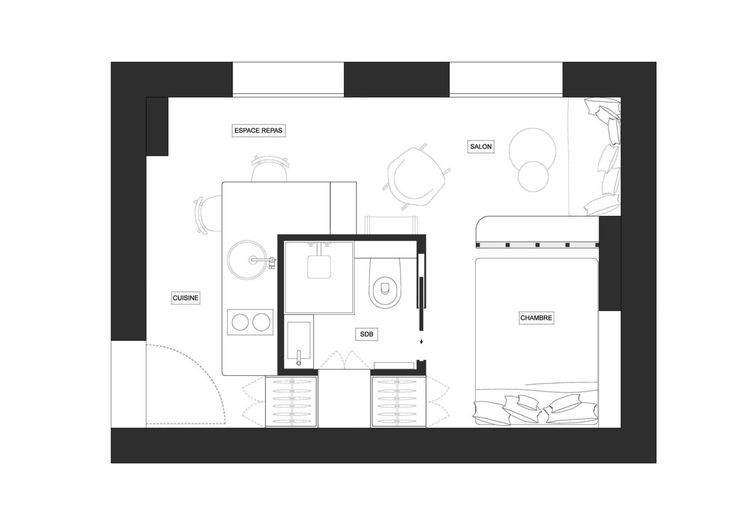door: (146, 339, 231, 431), (425, 372, 458, 429), (235, 374, 269, 428), (314, 346, 373, 369)
room: (167, 97, 446, 237), (449, 90, 620, 257), (146, 223, 278, 427), (473, 259, 620, 425), (282, 236, 424, 375)
wall: (107, 422, 670, 472), (622, 49, 666, 465), (104, 52, 153, 341), (104, 51, 235, 105), (344, 50, 449, 108), (561, 57, 661, 104), (275, 226, 431, 250), (275, 232, 291, 383)
window: (448, 49, 565, 111), (231, 52, 346, 105)
